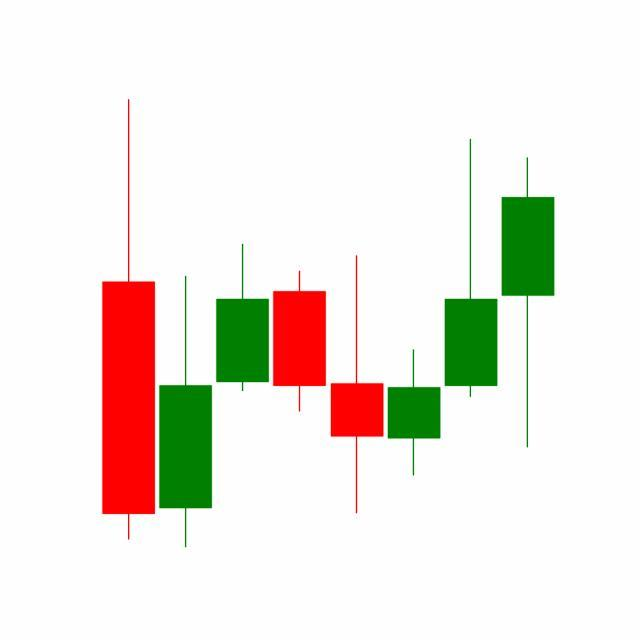Hikkake Pattern: (214, 135, 501, 518)
